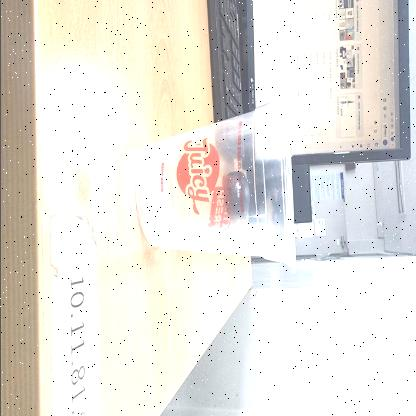Others: (134, 89, 297, 274)
